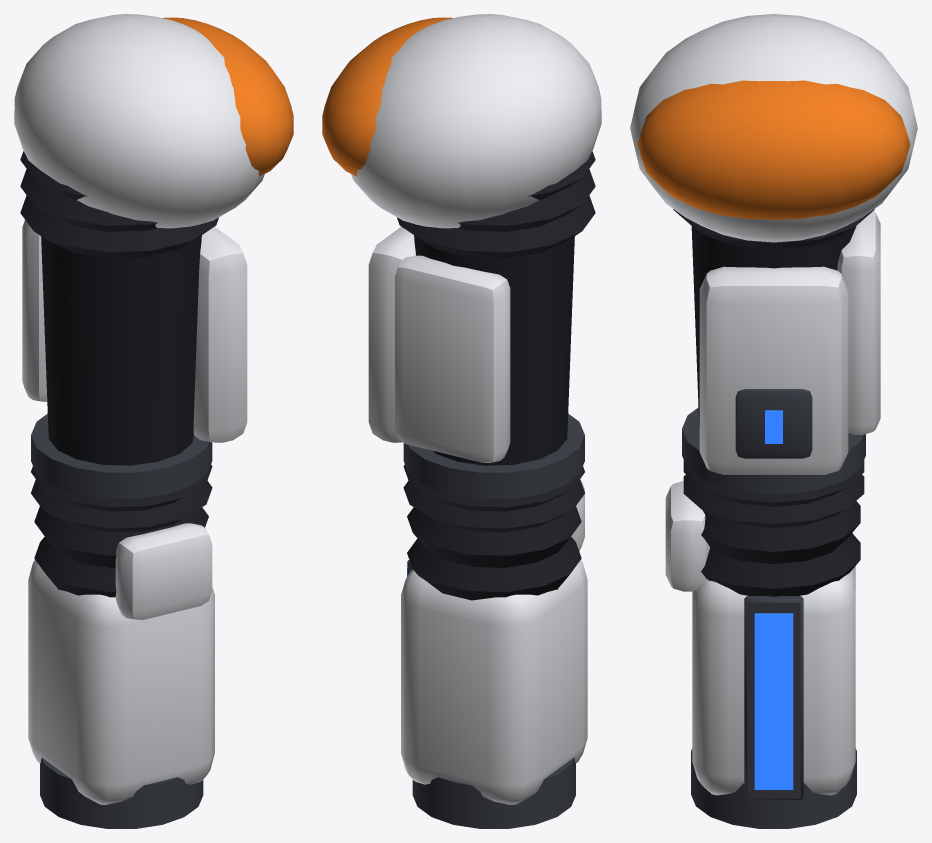
File: arm_r.glb
3 views of the same model, side by side, from view 1: azimuth 30°, elevation 25°; view 2: azimuth 150°, elevation 25°; view 3: azimuth 270°, elevation 25° (orthographic).
Visible parts, largest first — view 1: ArmR_Suit_White, ArmR_Undersuit, ForearmR_Suit_White, ArmR_Metal_Dark, ArmR_Suit_Orange, ForearmR_Metal_Dark, ForearmR_Undersuit; view 2: ArmR_Suit_White, ForearmR_Suit_White, ArmR_Undersuit, ForearmR_Undersuit, ArmR_Metal_Dark, ArmR_Suit_Orange, ForearmR_Metal_Dark; view 3: ArmR_Suit_White, ArmR_Suit_Orange, ForearmR_Suit_White, ArmR_Undersuit, ForearmR_Undersuit, ForearmR_Metal_Dark, ArmR_Metal_Dark, ForearmR_Strip_Blue, ArmR_Strip_Blue.
Boxes of the visible parts, left/top/right/bottom form: ArmR_Suit_White: left=14, top=14, right=264, bottom=442; ArmR_Undersuit: left=20, top=151, right=218, bottom=532; ForearmR_Suit_White: left=28, top=523, right=214, bottom=804; ArmR_Metal_Dark: left=31, top=414, right=212, bottom=498; ArmR_Suit_Orange: left=162, top=17, right=293, bottom=175; ForearmR_Metal_Dark: left=40, top=757, right=203, bottom=828; ForearmR_Undersuit: left=34, top=506, right=208, bottom=597; ArmR_Suit_White: left=351, top=14, right=601, bottom=462; ForearmR_Suit_White: left=401, top=480, right=587, bottom=804; ArmR_Undersuit: left=397, top=151, right=595, bottom=532; ForearmR_Undersuit: left=407, top=506, right=581, bottom=600; ArmR_Metal_Dark: left=403, top=414, right=584, bottom=498; ArmR_Suit_Orange: left=322, top=17, right=453, bottom=175; ForearmR_Metal_Dark: left=407, top=560, right=575, bottom=828; ArmR_Suit_White: left=630, top=14, right=917, bottom=474; ArmR_Suit_Orange: left=637, top=80, right=910, bottom=219; ForearmR_Suit_White: left=665, top=481, right=855, bottom=795; ArmR_Undersuit: left=673, top=209, right=874, bottom=528; ForearmR_Undersuit: left=701, top=501, right=860, bottom=596; ForearmR_Metal_Dark: left=691, top=596, right=856, bottom=828; ArmR_Metal_Dark: left=682, top=389, right=865, bottom=493; ForearmR_Strip_Blue: left=754, top=613, right=793, bottom=789; ArmR_Strip_Blue: left=765, top=410, right=782, bottom=443.
Bounding box in the file's own units: 0.1854 × 0.5747 × 0.194.
